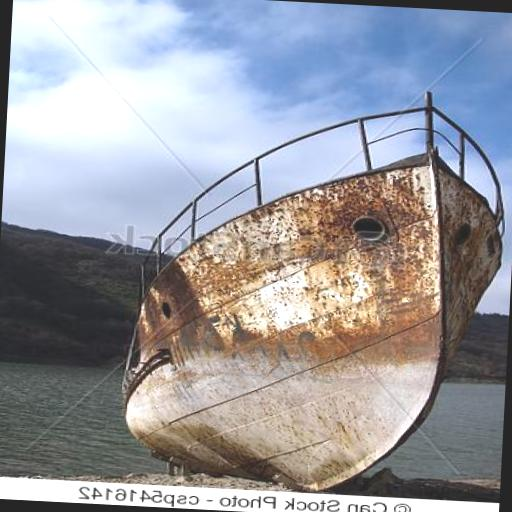corrosion: (116, 154, 474, 408)
